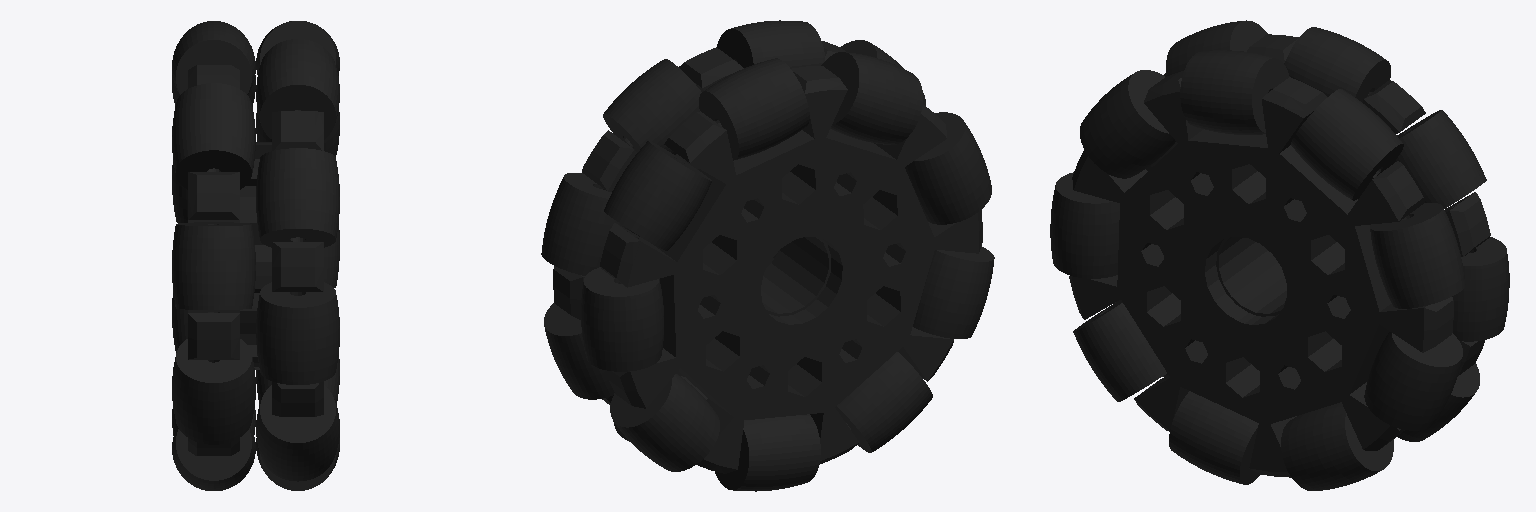
robot.urdf — my_robot:
<!-- <?xml version="1.0" encoding="utf-8"?> -->
<robot name="my_robot">
  <!-- Base Link -->
  <link name="base_link">
    <inertial>
      <origin xyz="-0.00482 -0.00209 0.01253" rpy="0 0 0" />
      <mass value="3.72457" />
      <inertia ixx="0.00778" ixy="2.14E-06" ixz="-7.76E-07"
               iyy="0.00778" iyz="-4.55E-07" izz="0.01502" />
    </inertial>
    <visual>
      <origin xyz="0 0 0" rpy="0 0 0" />
      <geometry>
        <mesh filename="package://my_robot_description/meshes/autobot/base_link.stl" scale="10 10 10" />
      </geometry>
      <material name="">
        <color rgba="0.792 0.820 0.933 1" />
      </material>
    </visual>
    <collision>
      <origin xyz="0 0 0" rpy="0 0 0" />
      <geometry>
        <mesh filename="package://my_robot_description/meshes/autobot/base_link.stl" scale="10 10 10" />
      </geometry>
    </collision>
  </link>

  <!-- Right Wheel -->
  <link name="right_wheel">
    <inertial>
      <origin xyz="0.05023 0 -0.029" rpy="0 0 0" />
      <mass value="0.16906" />
      <inertia ixx="6.82E-05" ixy="1.10E-16" ixz="-1.54E-05"
               iyy="4.15E-05" iyz="1.90E-16" izz="5.04E-05" />
    </inertial>
    <visual>
      <origin xyz="0 0 0" rpy="0 0 0" />
      <geometry>
        <mesh filename="package://my_robot_description/meshes/autobot/right_wheel.stl" scale="10 10 10" />
      </geometry>
      <material name="">
        <color rgba="0.173 0.173 0.173 1" />
      </material>
    </visual>
    <collision>
      <origin xyz="0 0 0" rpy="0 0 0" />
      <geometry>
        <mesh filename="package://my_robot_description/meshes/autobot/right_wheel.stl" scale="10 10 10" />
      </geometry>
    </collision>
  </link>

  <joint name="rightwheel" type="continuous">
    <origin xyz="0.23043 -0.13304 0.01805" rpy="-1.5708 0 3.1416" />
    <parent link="base_link" />
    <child link="right_wheel" />
    <axis xyz="0.86603 0 -0.5" />
    <limit effort="10" velocity="10" />
    <dynamics damping="0.1" friction="0.1" />
  </joint>

  <!-- Left Wheel -->
  <link name="left_wheel">
    <inertial>
      <origin xyz="-0.05023 0 -0.029" rpy="0 0 0" />
      <mass value="0.16906" />
      <inertia ixx="6.82E-05" ixy="1.10E-16" ixz="1.54E-05"
               iyy="4.15E-05" iyz="-1.90E-16" izz="5.04E-05" />
    </inertial>
    <visual>
      <origin xyz="0 0 0" rpy="0 0 0" />
      <geometry>
        <mesh filename="package://my_robot_description/meshes/autobot/left_wheel.stl" scale="10 10 10" />
      </geometry>
      <material name="">
        <color rgba="0.173 0.173 0.173 1" />
      </material>
    </visual>
    <collision>
      <origin xyz="0 0 0" rpy="0 0 0" />
      <geometry>
        <mesh filename="package://my_robot_description/meshes/autobot/left_wheel.stl" scale="10 10 10" />
      </geometry>
    </collision>
  </link>

  <joint name="leftwheel" type="continuous">
    <origin xyz="-0.23043 -0.13304 0.01805" rpy="-1.5708 0 3.1416" />
    <parent link="base_link" />
    <child link="left_wheel" />
    <axis xyz="-0.86603 0 -0.5" />
    <limit effort="10" velocity="10" />
    <dynamics damping="0.1" friction="0.1" />
  </joint>

  <!-- Front Wheel -->
  <link name="front_wheel">
    <inertial>
      <origin xyz="0 0 -0.058" rpy="0 0 0" />
      <mass value="0.16906" />
      <inertia ixx="4.15E-05" ixy="2.20E-16" ixz="1.01E-18"
               iyy="4.15E-05" iyz="-1.98E-19" izz="7.70E-05" />
    </inertial>
    <visual>
      <origin xyz="0 0 0" rpy="0 0 0" />
      <geometry>
        <mesh filename="package://my_robot_description/meshes/autobot/front_wheel.stl" scale="10 10 10" />
      </geometry>
      <material name="">
        <color rgba="0.173 0.173 0.173 1" />
      </material>
    </visual>
    <collision>
      <origin xyz="0 0 0" rpy="0 0 0" />
      <geometry>
        <mesh filename="package://my_robot_description/meshes/autobot/front_wheel.stl" scale="10 10 10" />
      </geometry>
    </collision>
  </link>

  <joint name="frontwheel" type="continuous">
    <origin xyz="0 0.26608 0.01805" rpy="-1.5708 0 0" />
    <parent link="base_link" />
    <child link="front_wheel" />
    <axis xyz="0 0 -1" />
    <limit effort="10" velocity="10" />
    <dynamics damping="0.1" friction="0.1" />
  </joint>

</robot>

--- What the picture shows (computed from the rendered views, not written in the file) ---
3 views of the same robot in one strip: view 1: azimuth 30°, elevation 25°; view 2: azimuth 150°, elevation 25°; view 3: azimuth 270°, elevation 25° (orthographic).
Robot: my_robot — 4 links, 3 joints (3 continuous); root link base_link; default pose: every joint at zero.
Links seen in each view (by area): view 1: right_wheel; view 2: right_wheel; view 3: right_wheel.
Boxes of the visible links, x1=… form: right_wheel: x1=172, y1=21, x2=339, y2=490; right_wheel: x1=541, y1=20, x2=994, y2=491; right_wheel: x1=1050, y1=20, x2=1509, y2=490.
Bounding box of the posed robot: 0.7593 × 1.01 × 1.04 m (x, y, z).
1 mesh visuals loaded from 4 distinct referenced files (1 binary STL); not drawn: 3 (reference not matched to a file when rendering).